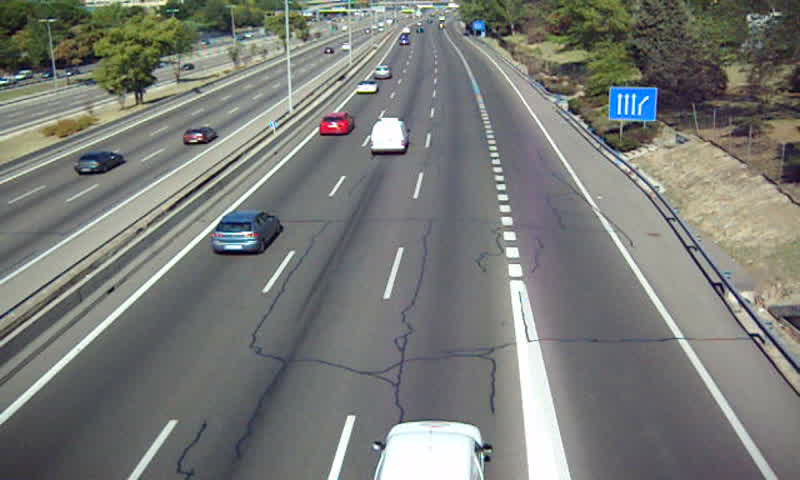car: (210, 210, 281, 254), (319, 113, 354, 137), (355, 80, 378, 94), (374, 65, 391, 80)
van: (369, 118, 410, 154)
